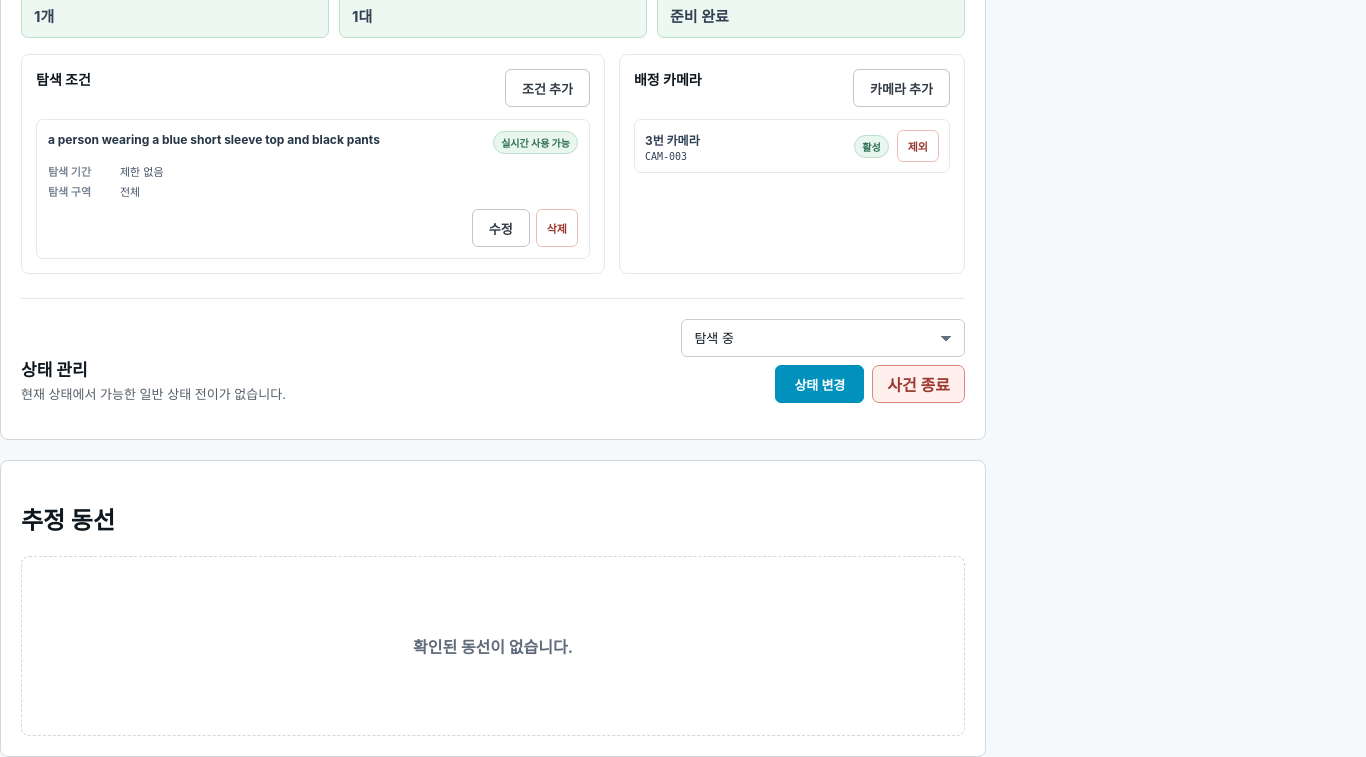
Test: CaseDetailView › 상태 변경 422 시 외부에서 종료된 사건 상태를 다시 불러온다
(page scrolled)
Click the button "상태 변경". click: {"x": 820, "y": 384}
box: [775, 365, 864, 403]
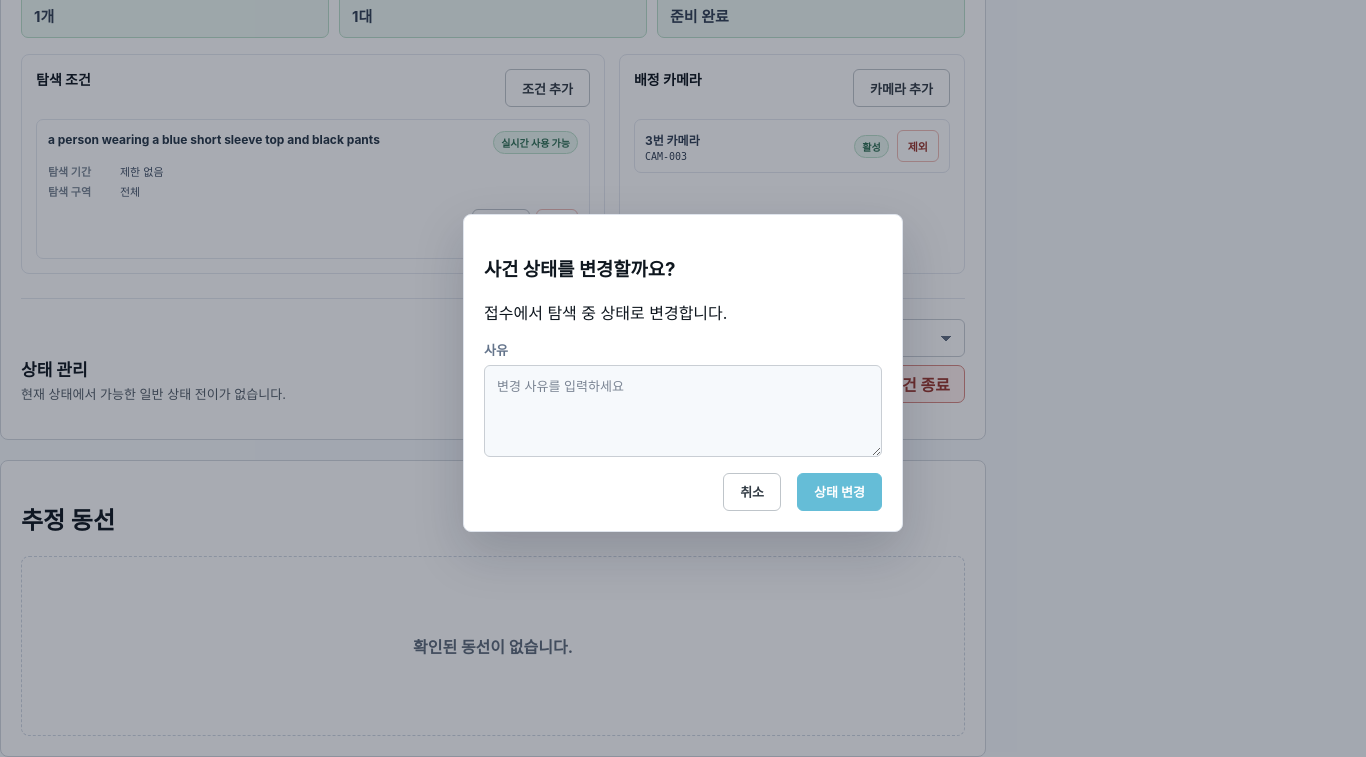
Type "탐색 개시" into the text box labelled "사유". click: {"x": 683, "y": 411}
box: [484, 365, 882, 457]
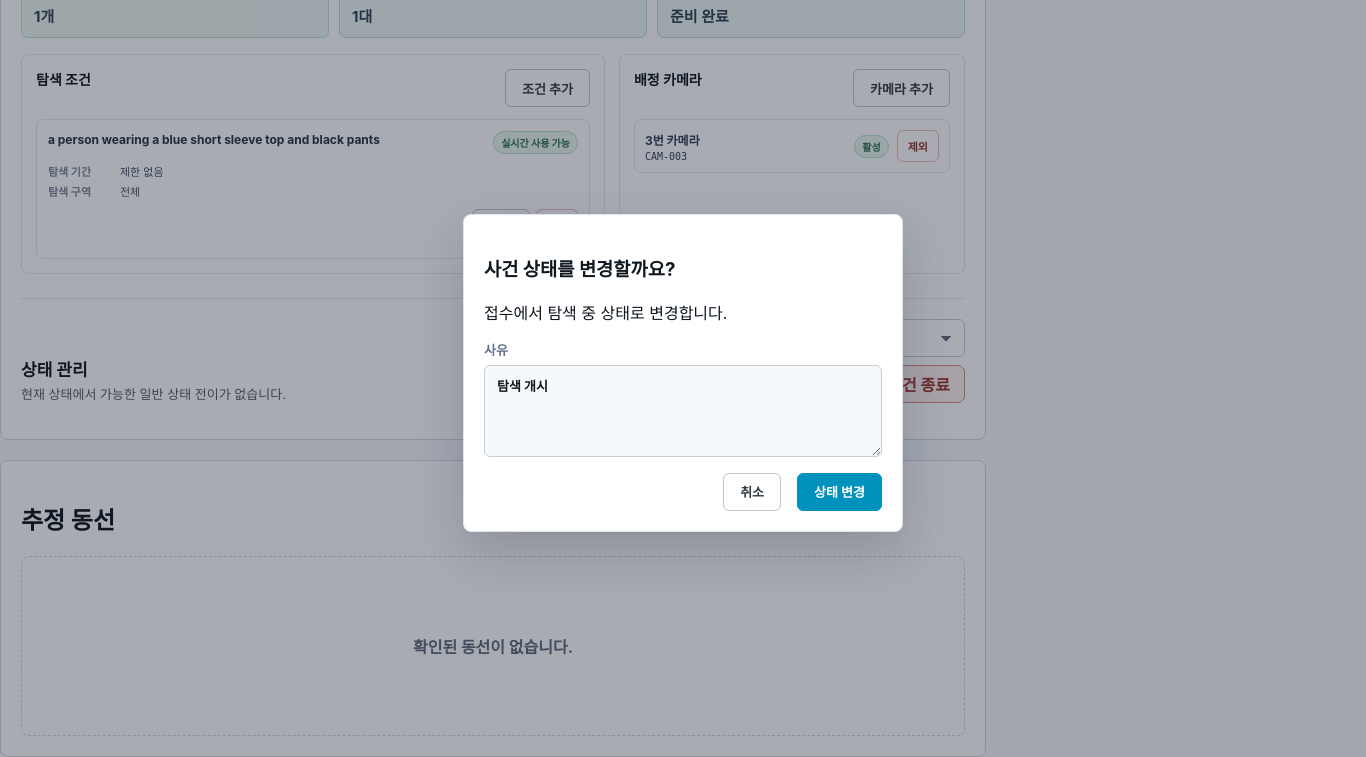
Click the button "상태 변경". click: {"x": 840, "y": 492}
box: [797, 473, 882, 511]
(page scrolled)
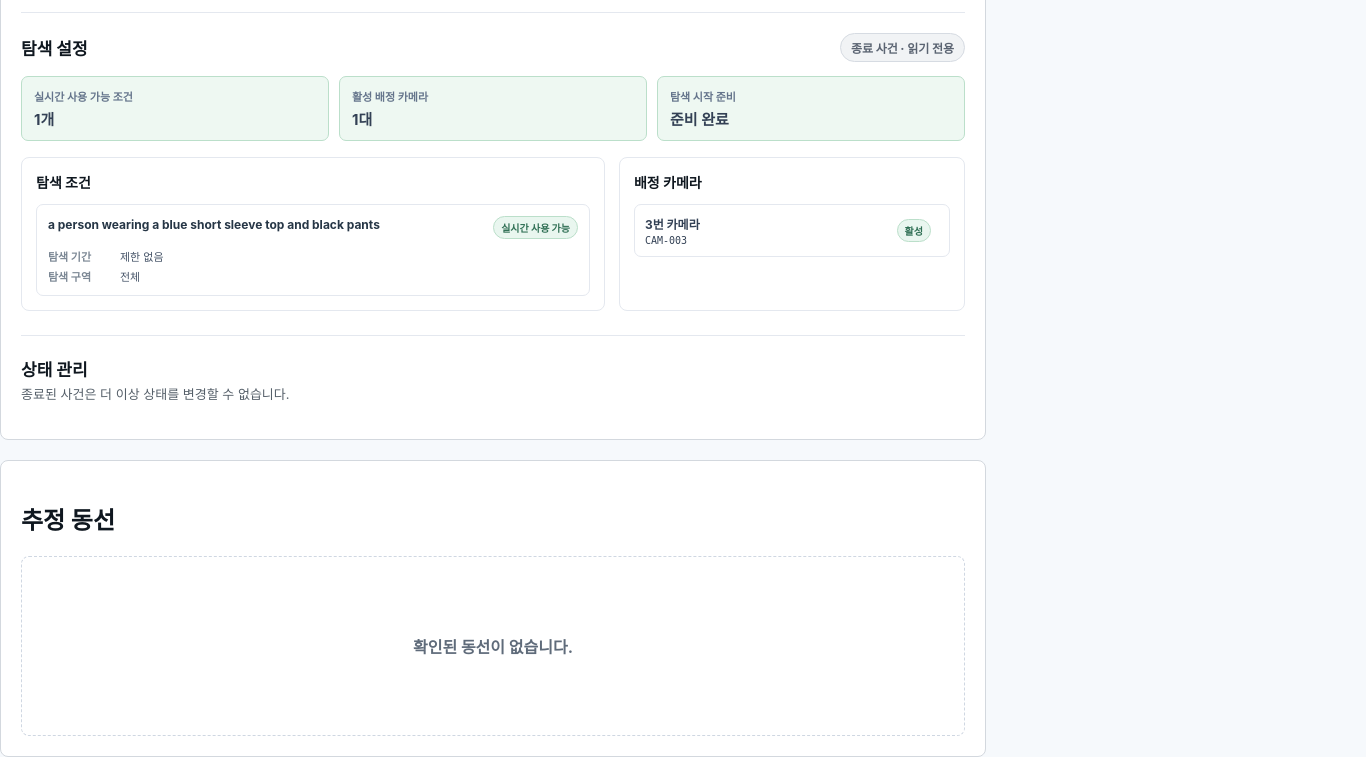
Result: the dialog with class "modal" is gone
Result: the text "종료 사건 · 읽기 전용" is shown at [840, 33, 965, 62]
